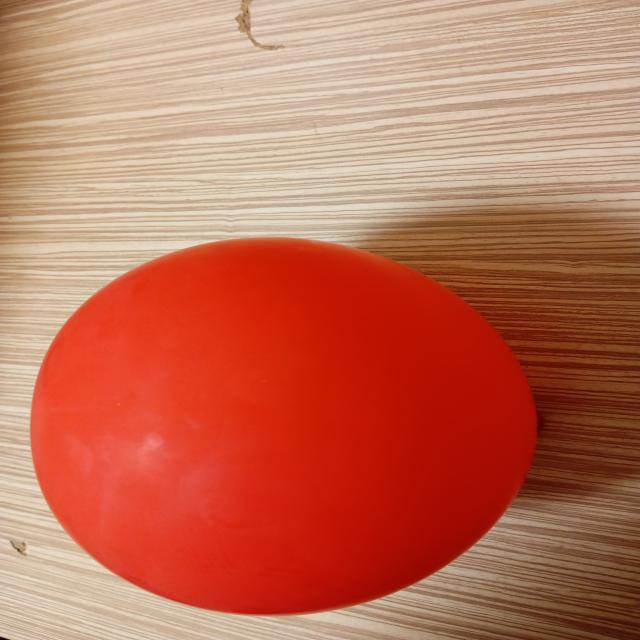balloon: (30, 237, 538, 616)
